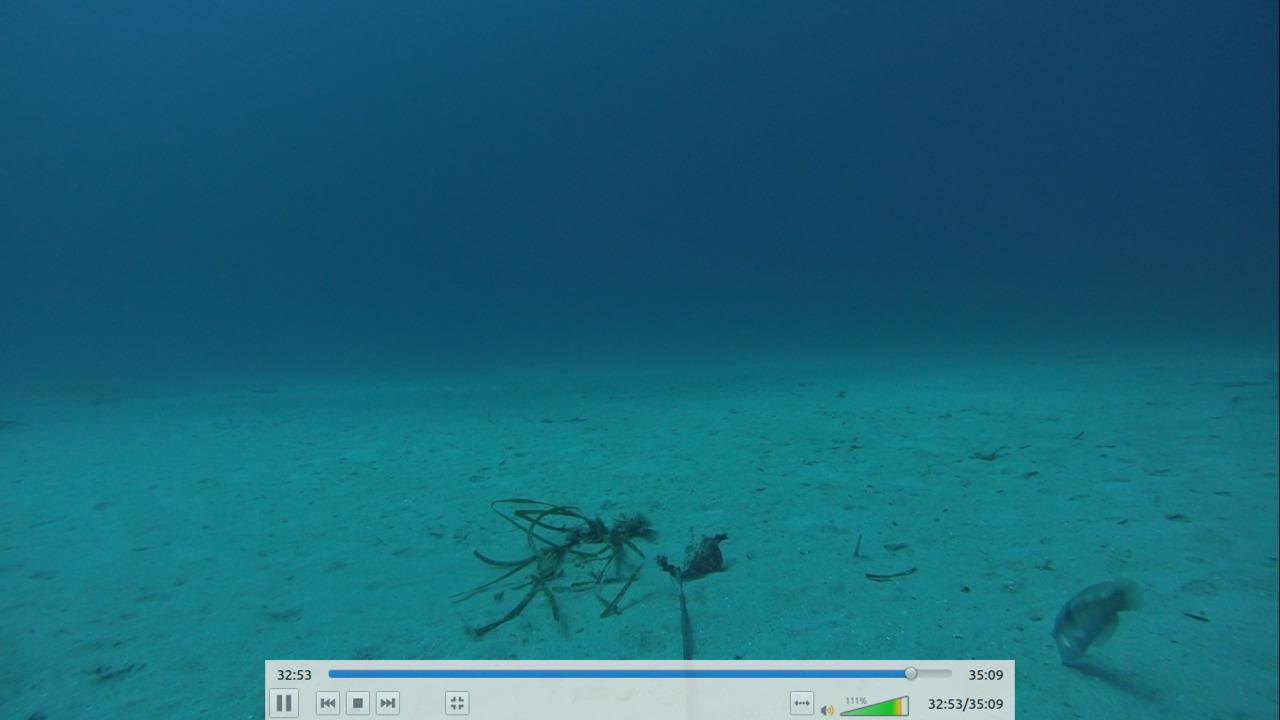raor: (1049, 566, 1146, 676)
